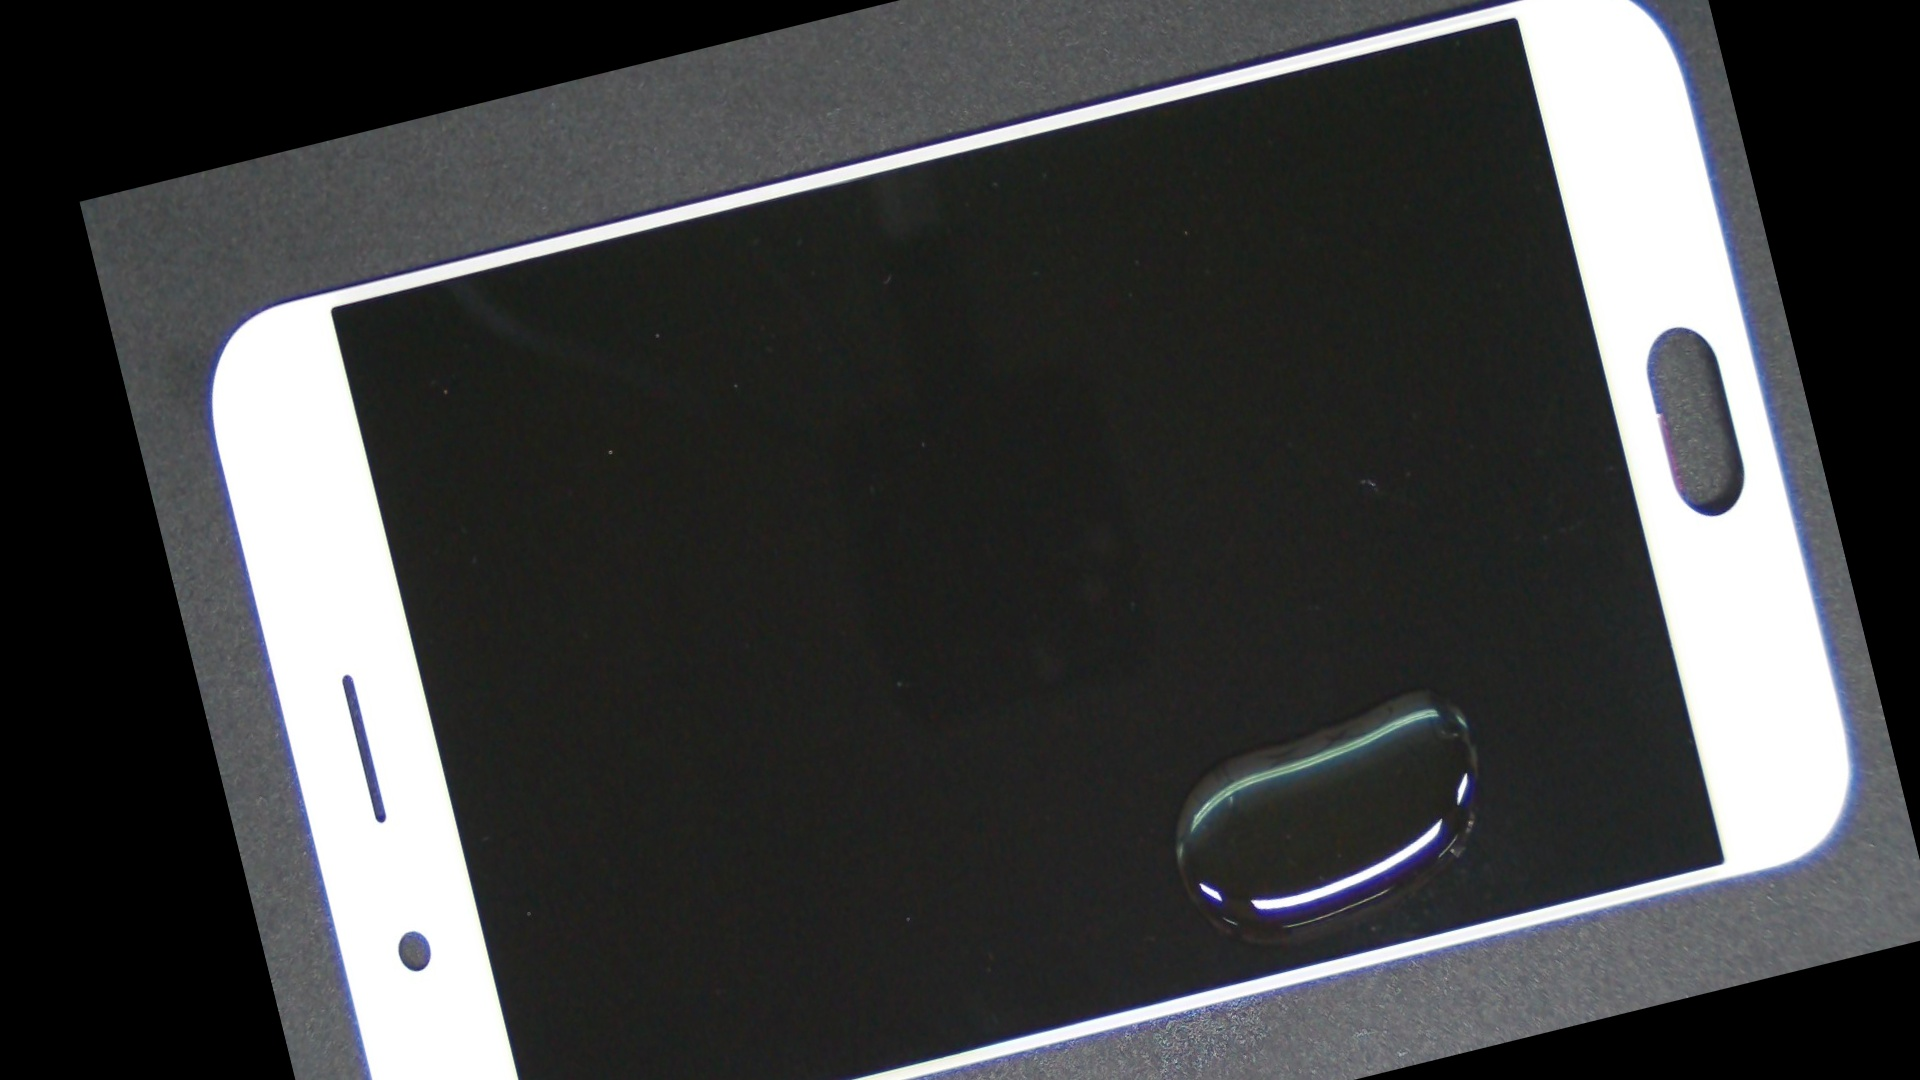oil: (740, 196, 1920, 1080)
